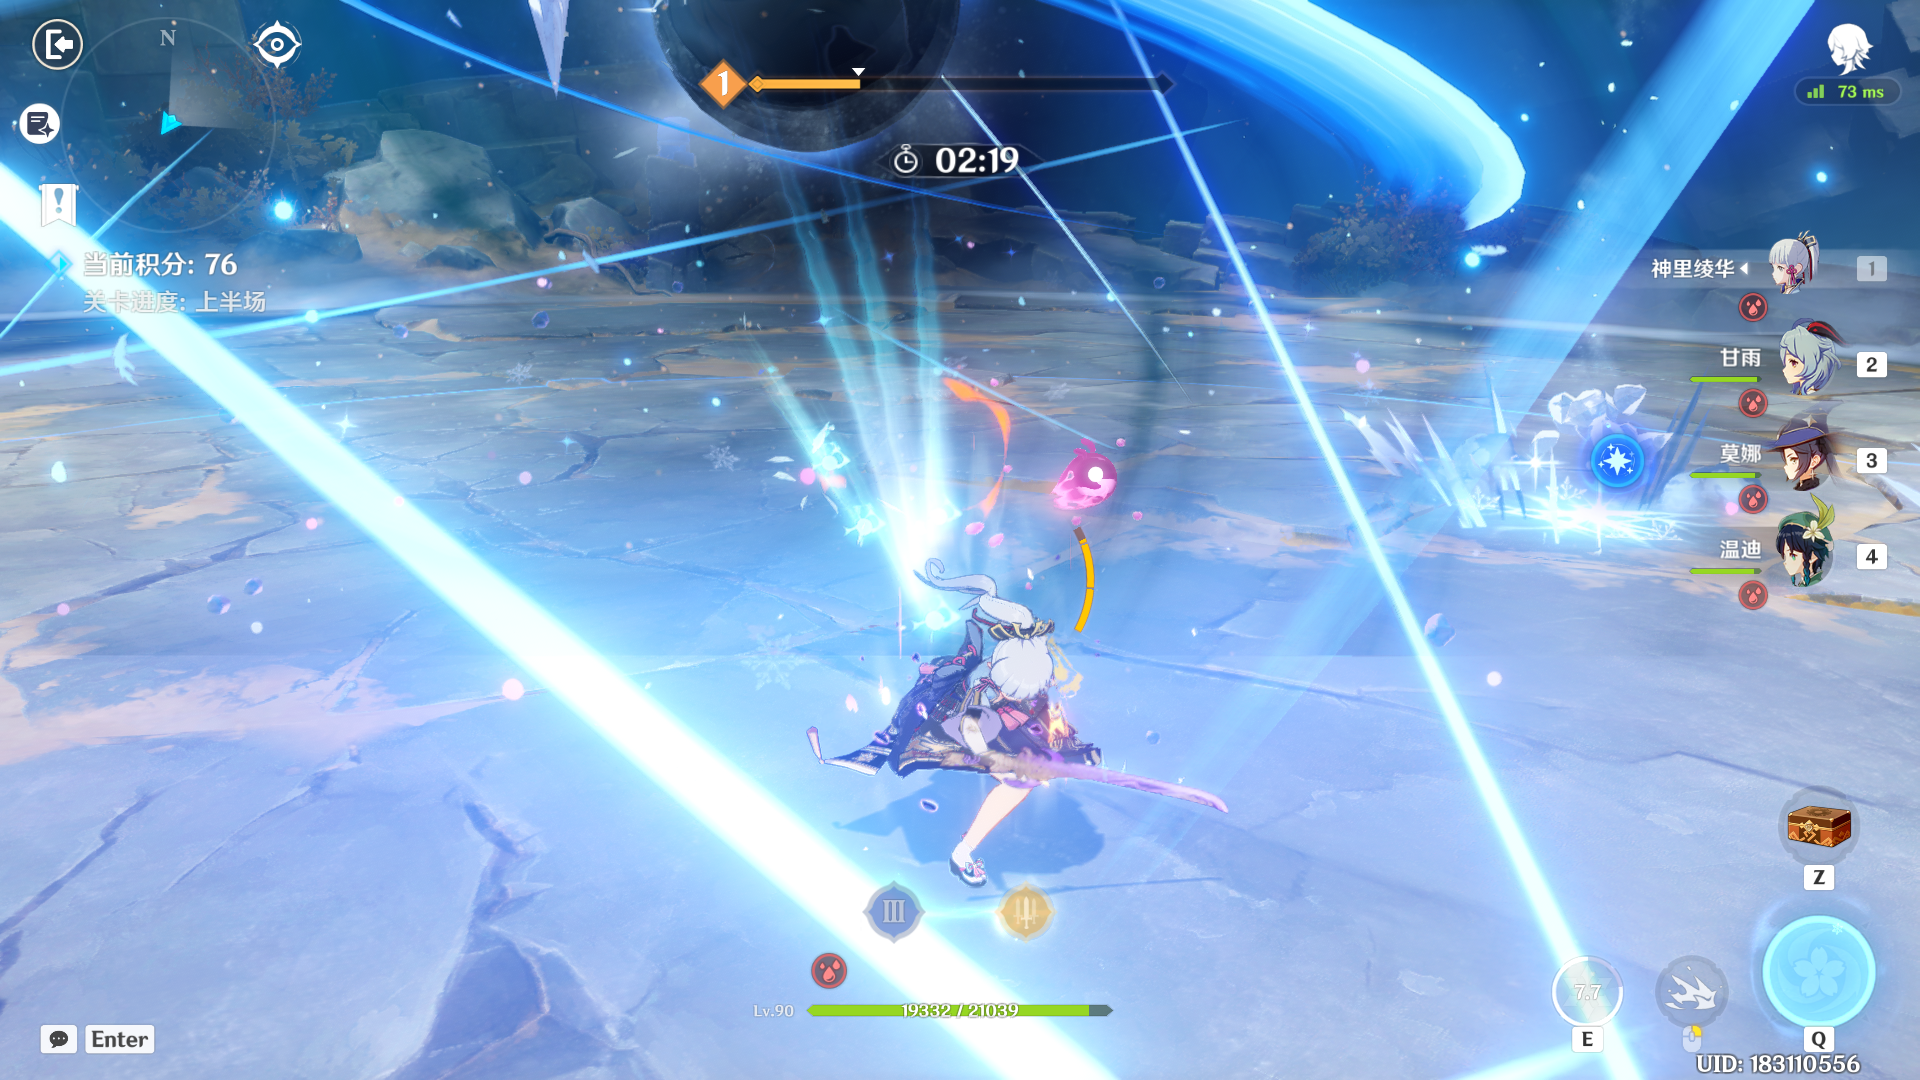character: (808, 487, 1116, 880)
